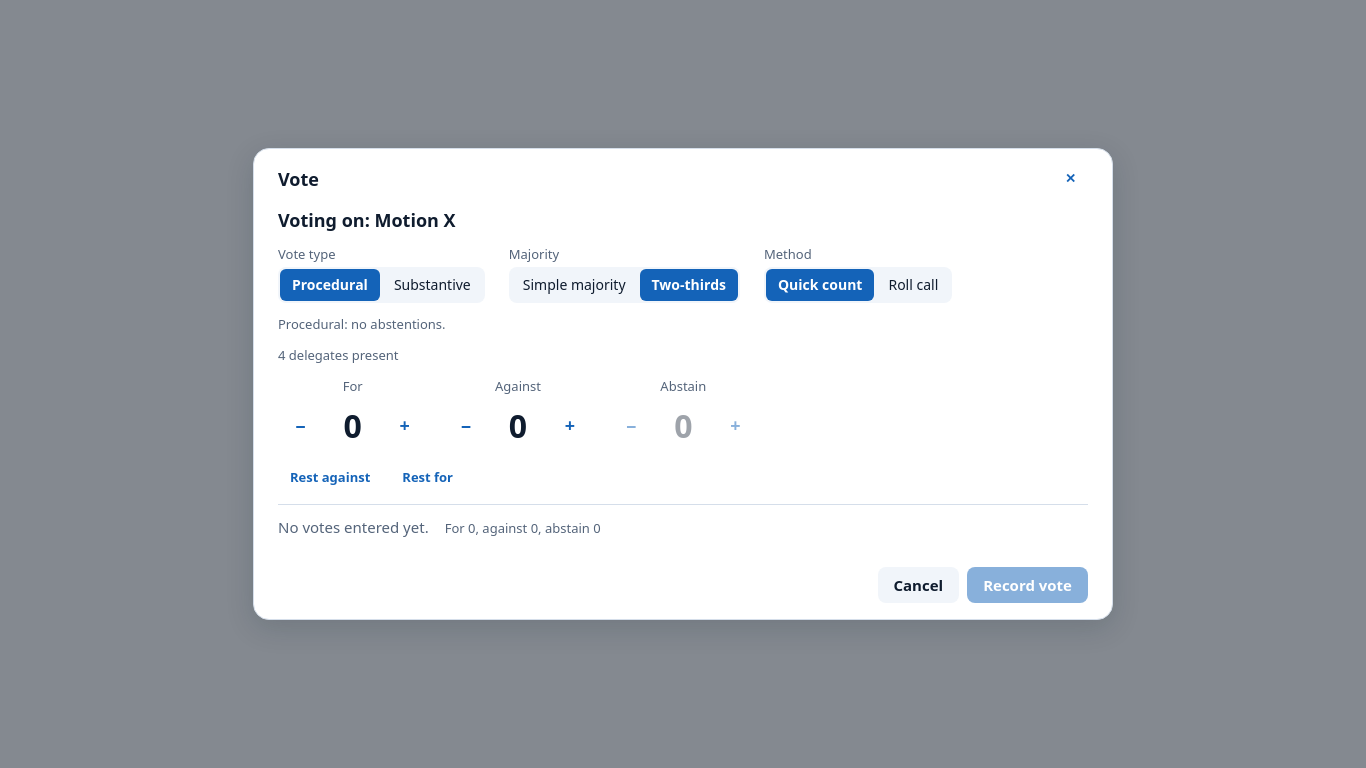
Test: VoteModal › applies two-thirds threshold
Replace the text in the number field named "For" with "2" at (353, 426), box x1=321 y1=400 x2=385 y2=452
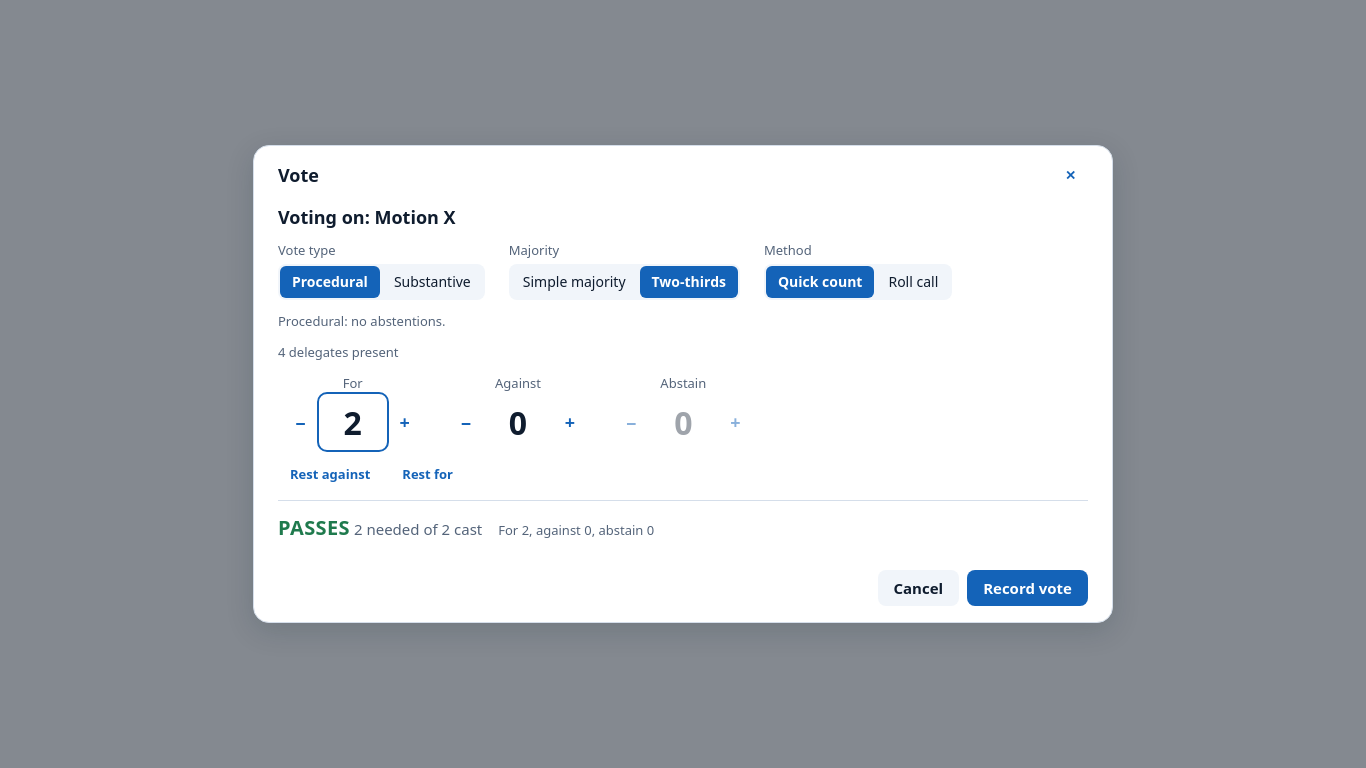
Replace the text in the number field named "Against" with "1" at (518, 422), box x1=486 y1=396 x2=550 y2=448
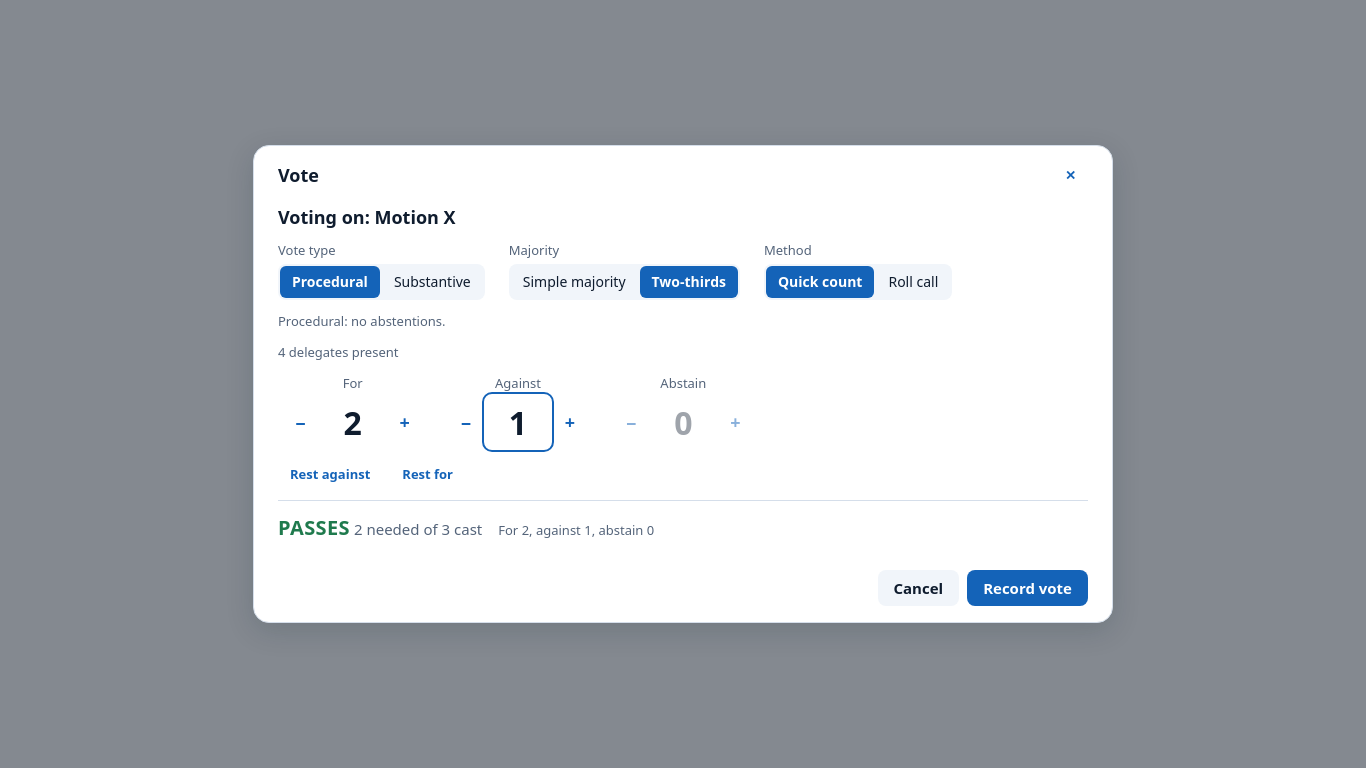
Check: the message shows "PASSES", box x1=278 y1=514 x2=350 y2=541
Check: the message shows "2 needed of 3 cast", box x1=350 y1=519 x2=482 y2=539
Replace the text in the number field named "Against" with "2" at (518, 422), box x1=486 y1=396 x2=550 y2=448
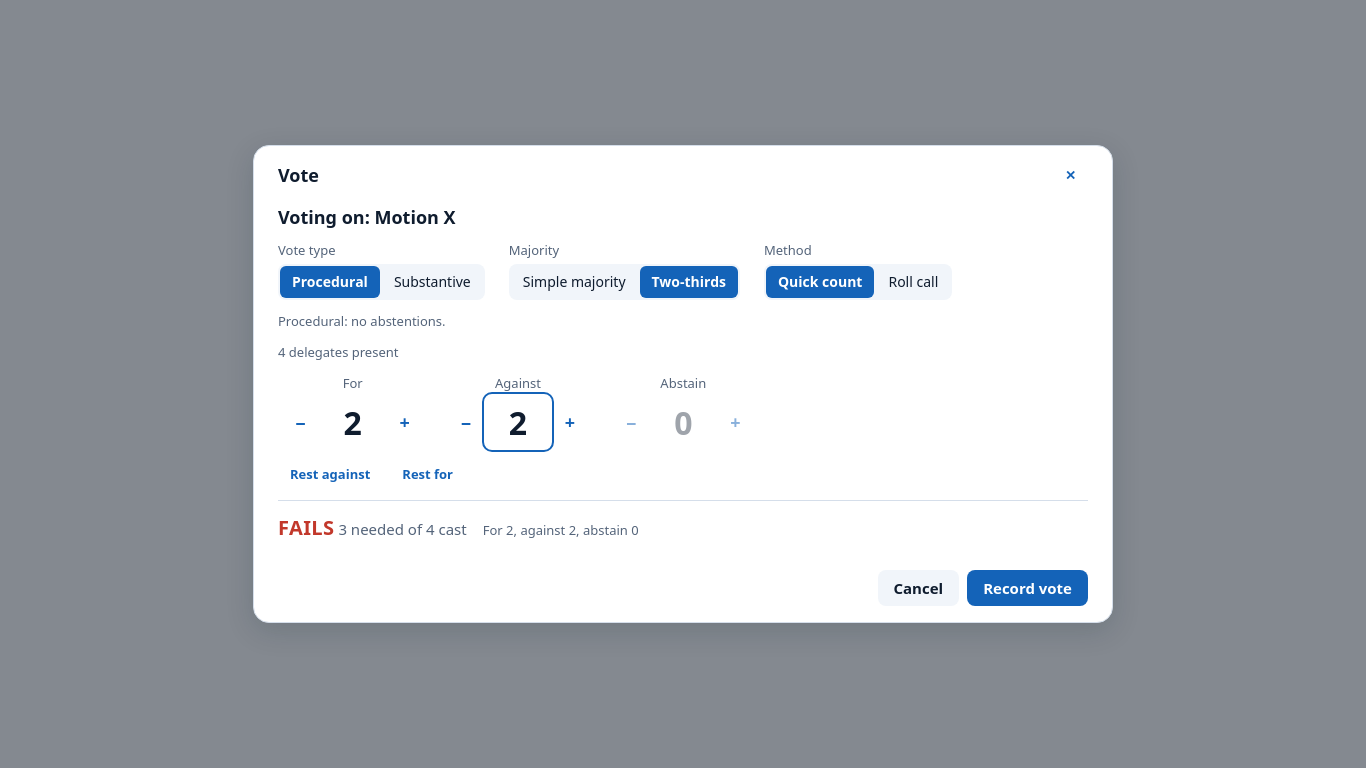
Check: the message shows "FAILS", box x1=278 y1=514 x2=334 y2=541
Check: the message shows "3 needed of 4 cast", box x1=334 y1=519 x2=467 y2=539
